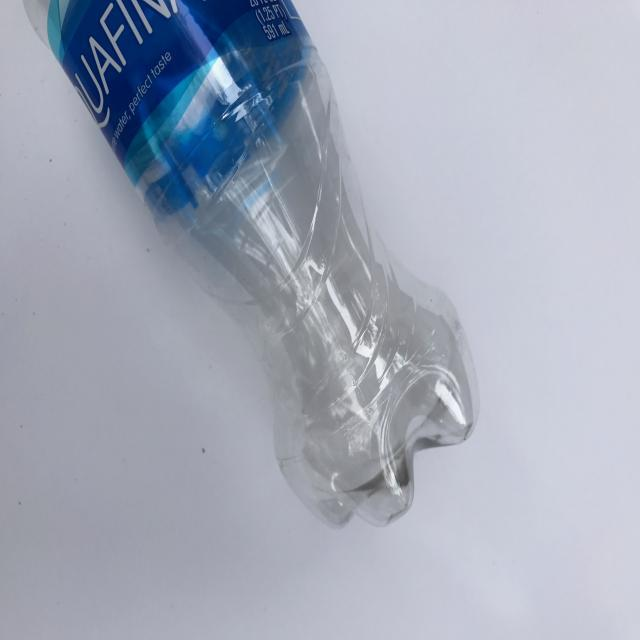plastic: (22, 1, 481, 539)
